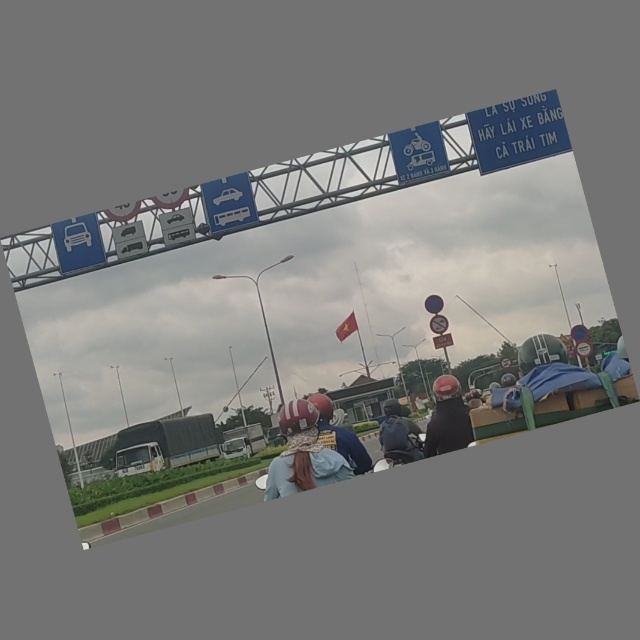P.107: (498, 357, 513, 371)
P.111: (427, 313, 451, 336)
P.129: (575, 339, 595, 360)
P.130: (422, 293, 447, 317)
P.131a: (569, 323, 591, 344)
W.221b: (558, 332, 570, 346)
